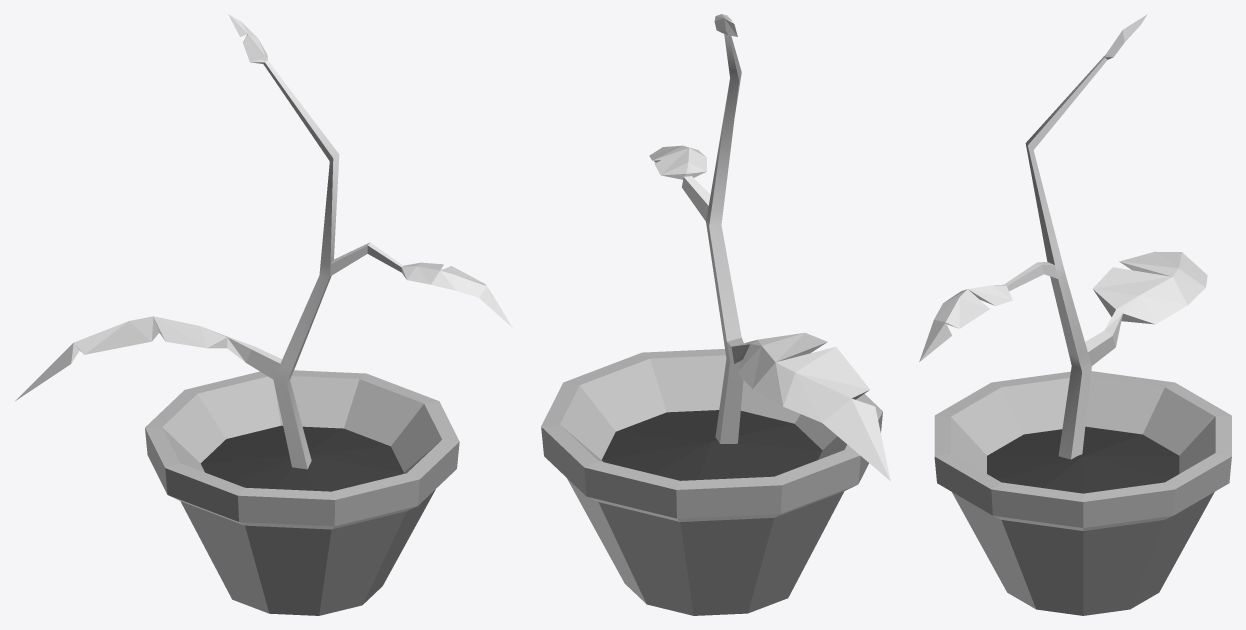
The model's file is plant.FBX.
3 renders of one model, left to right at view 1: azimuth 30°, elevation 25°; view 2: azimuth 150°, elevation 25°; view 3: azimuth 270°, elevation 25°, orthographic. The views are drawn at different scales.
Parts seen in each view (by area): view 1: pot, plant; view 2: pot, plant; view 3: pot, plant.
Boxes of the visible parts, bbox=[...] form: pot: bbox=[145, 370, 459, 615]; plant: bbox=[15, 14, 512, 469]; pot: bbox=[541, 349, 882, 615]; plant: bbox=[649, 14, 890, 480]; pot: bbox=[934, 371, 1231, 615]; plant: bbox=[919, 14, 1207, 459].
Size of the model in its own units: 38.33 by 55.92 by 28.94.
